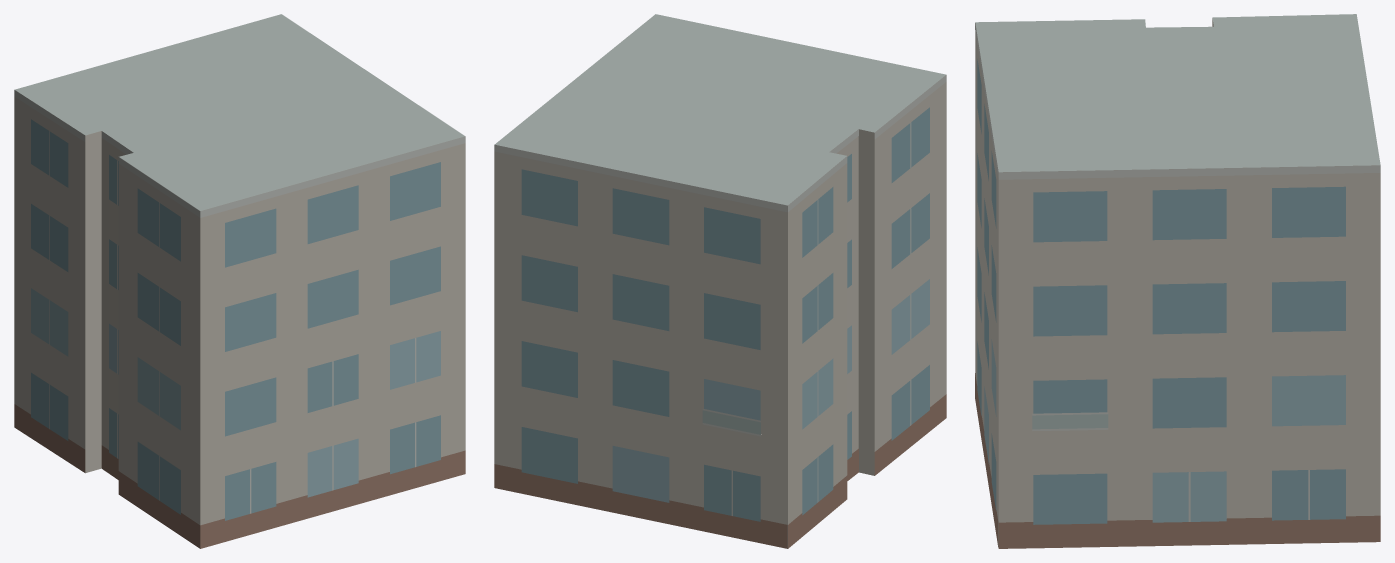
File: survey-upis-32799347.glb
3 renders of one model, left to right at view 1: azimuth 30°, elevation 25°; view 2: azimuth 150°, elevation 25°; view 3: azimuth 270°, elevation 25°, orthographic. The views are drawn at different scales.
Visible parts, largest first — view 1: survey-upis-32799347.tmp; view 2: survey-upis-32799347.tmp; view 3: survey-upis-32799347.tmp.
Boxes of the visible parts, box(x1,y1,x2,y2) form: survey-upis-32799347.tmp: box(14, 14, 465, 548); survey-upis-32799347.tmp: box(494, 14, 946, 548); survey-upis-32799347.tmp: box(975, 14, 1380, 548).
Bounding box in the file's own units: 10.95 × 12.15 × 11.86.
